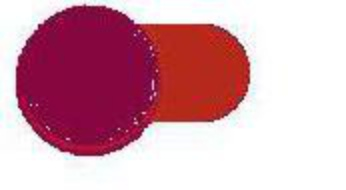Switch: (1, 1, 345, 189)
